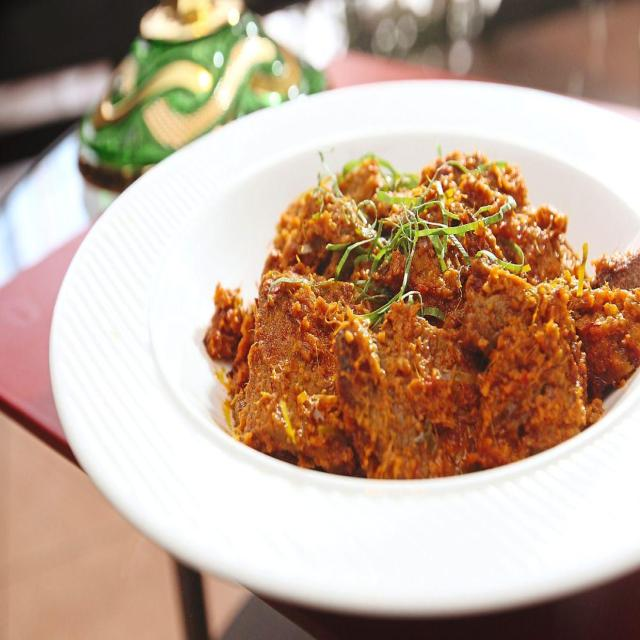Rendang: (202, 120, 640, 528)
